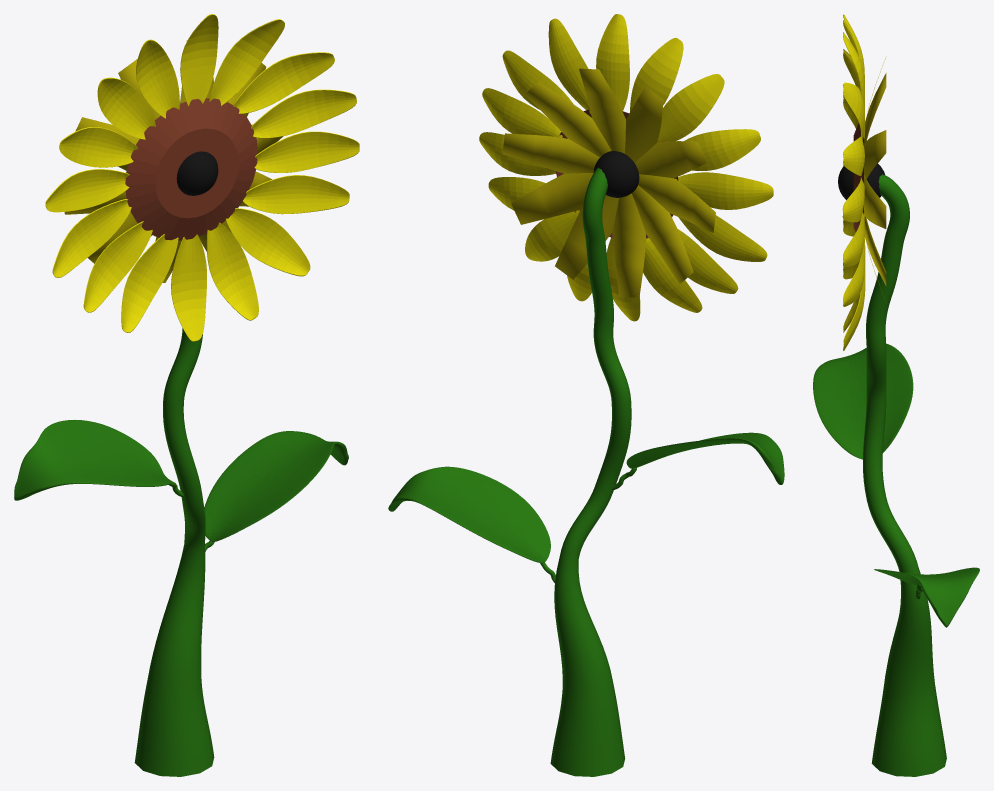
Rendered from SunFlower1.fbx.
3 renders of one model, left to right at view 1: azimuth 30°, elevation 25°; view 2: azimuth 150°, elevation 25°; view 3: azimuth 270°, elevation 25°, orthographic. The views are drawn at different scales.
Parts seen in each view (by area): view 1: Plane.049, Point.002, Circle.002, Plane.041, Plane.042, Circle.004, Sphere; view 2: Plane.049, Circle.004, Point.002, Plane.041, Plane.042, Sphere; view 3: Point.002, Plane.042, Plane.049, Circle.004, Plane.041, Sphere.
Boxes of the visible parts, box(x1,y1,x2,y2) form: Plane.049: box(45, 14, 359, 341); Point.002: box(134, 328, 214, 776); Circle.002: box(125, 98, 257, 240); Plane.041: box(204, 431, 348, 541); Plane.042: box(14, 420, 171, 500); Circle.004: box(64, 40, 283, 282); Sphere: box(176, 151, 218, 195); Plane.049: box(479, 14, 773, 321); Circle.004: box(502, 68, 715, 297); Point.002: box(550, 167, 631, 776); Plane.041: box(388, 466, 550, 563); Plane.042: box(626, 432, 784, 484); Sphere: box(593, 151, 639, 197); Point.002: box(863, 174, 946, 776); Plane.042: box(813, 343, 913, 459); Plane.049: box(842, 14, 865, 350); Circle.004: box(864, 56, 886, 302); Plane.041: box(874, 567, 979, 627); Sphere: box(838, 163, 884, 199).
Size of the model in its own units: 1116 by 2182 by 453.
